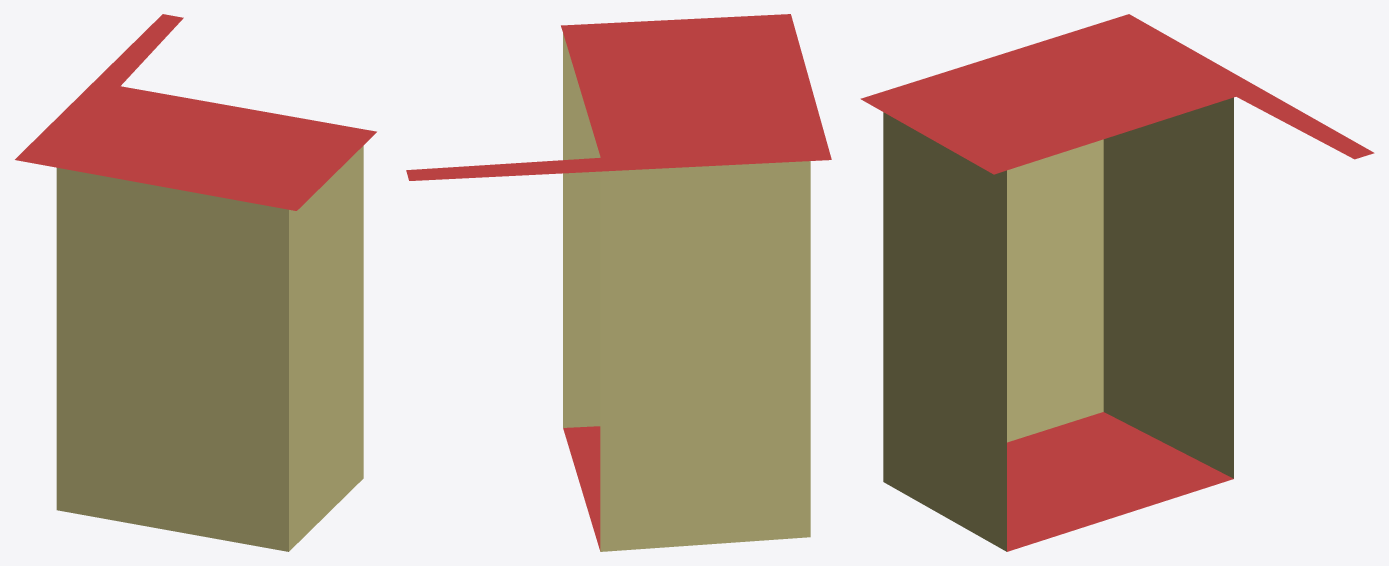
3 views of the same model, side by side, from view 1: azimuth 30°, elevation 25°; view 2: azimuth 150°, elevation 25°; view 3: azimuth 270°, elevation 25° (orthographic). The views are drawn at different scales.
Bounding box in the file's own units: 5.77 × 7.81 × 6.38.
